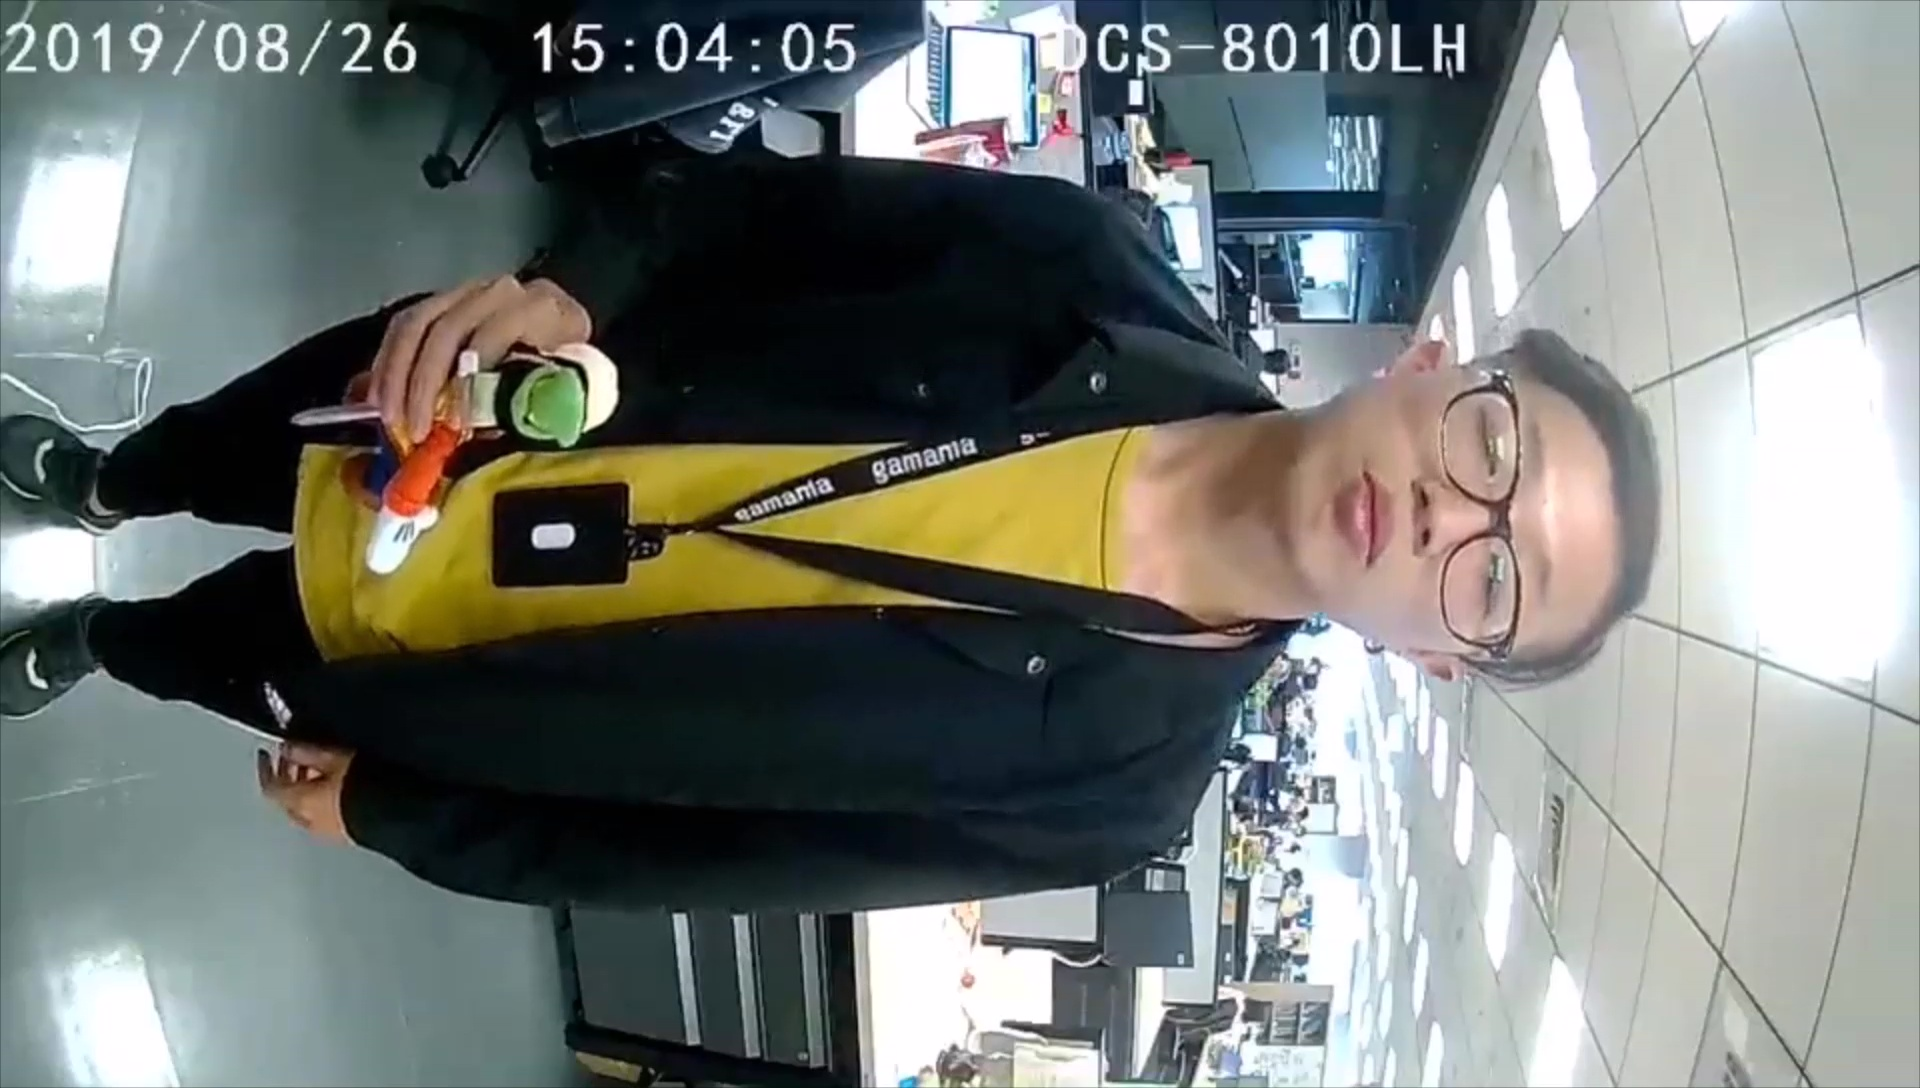goofy: (348, 342, 625, 578)
